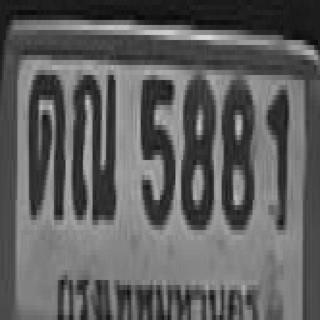A19: (70, 65, 115, 220)
A21: (27, 68, 64, 212)
N01: (266, 85, 287, 225)
N05: (139, 72, 174, 222)
N08: (179, 75, 214, 225), (220, 75, 253, 225)
